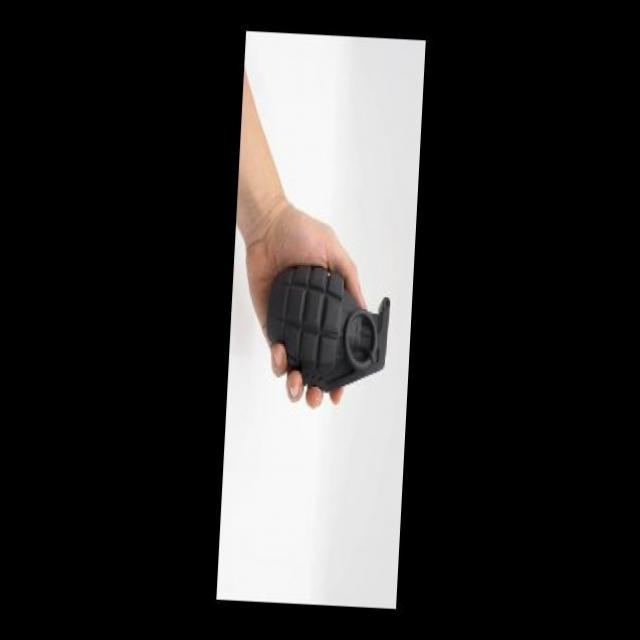grenade: (251, 258, 397, 407)
